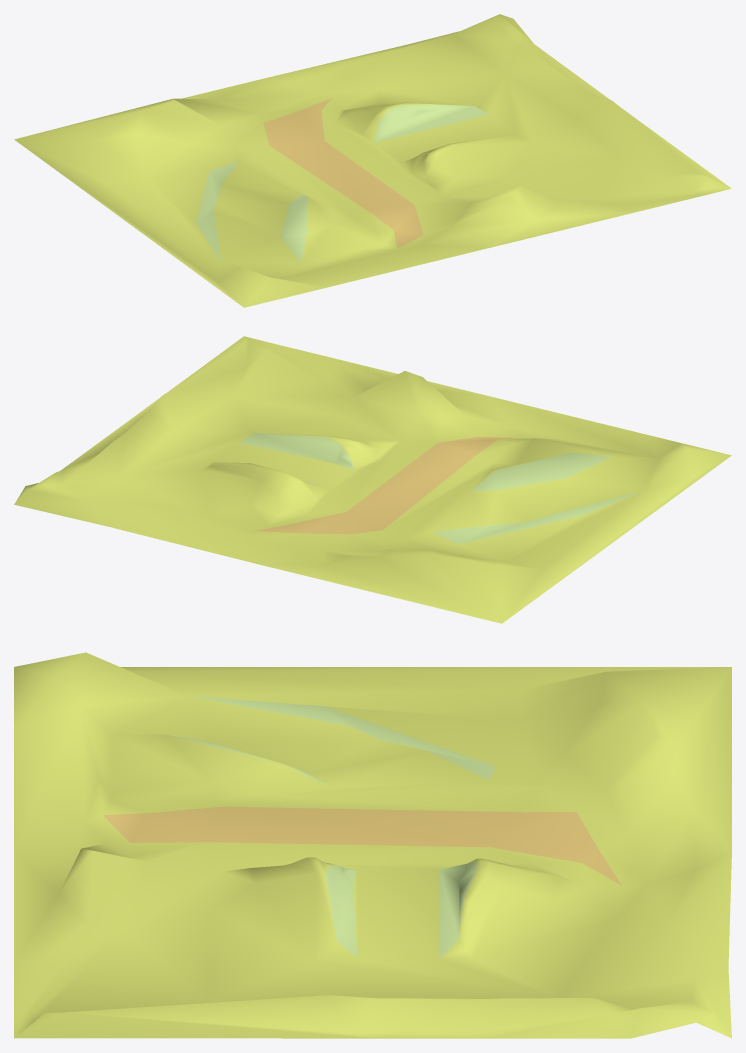
Rendered from ground3.fbx.
3 renders of one model, top to bottom at view 1: azimuth 30°, elevation 25°; view 2: azimuth 150°, elevation 25°; view 3: azimuth 270°, elevation 25°, orthographic. The views are drawn at different scales.
Parts seen in each view (by area): view 1: terraun; view 2: terraun; view 3: terraun.
Part boxes in pixels (bbox=[...]): terraun: bbox=[14, 14, 731, 307]; terraun: bbox=[14, 336, 731, 623]; terraun: bbox=[14, 652, 731, 1038].
Bounding box in the file's own units: 82785 × 5931 × 67601.
